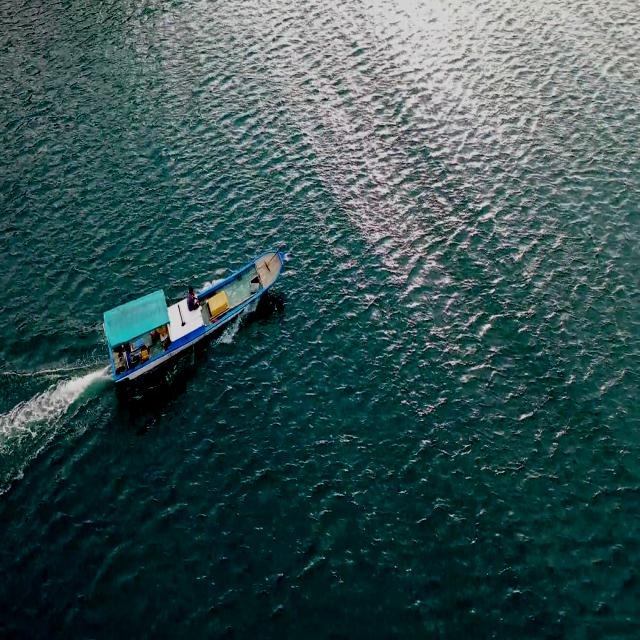ship: (99, 228, 287, 396)
